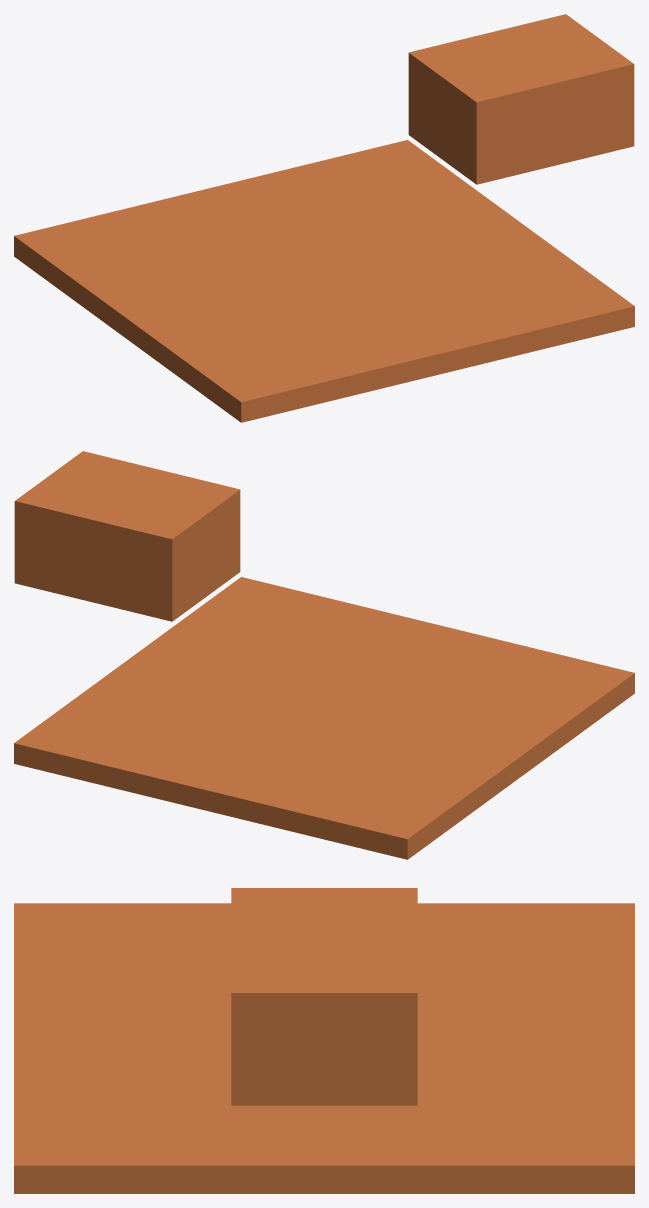
3 views of the same model, one above another, from view 1: azimuth 30°, elevation 25°; view 2: azimuth 150°, elevation 25°; view 3: azimuth 270°, elevation 25° (orthographic). The views are drawn at different scales.
Parts seen in each view (by area): view 1: part; view 2: part; view 3: part.
Part boxes in pixels (box(x1,y1,x2,y2)): part: box(14, 14, 634, 422); part: box(14, 451, 634, 859); part: box(14, 888, 634, 1193).
Size of the model in its own units: 120 by 45 by 100.
